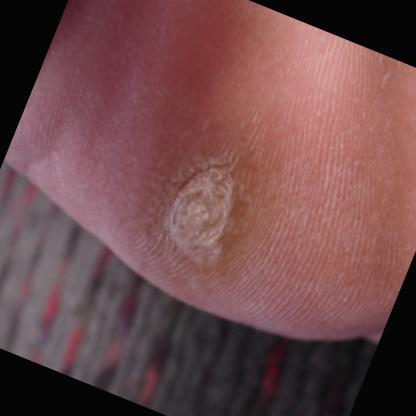Warts: (142, 130, 260, 276)
